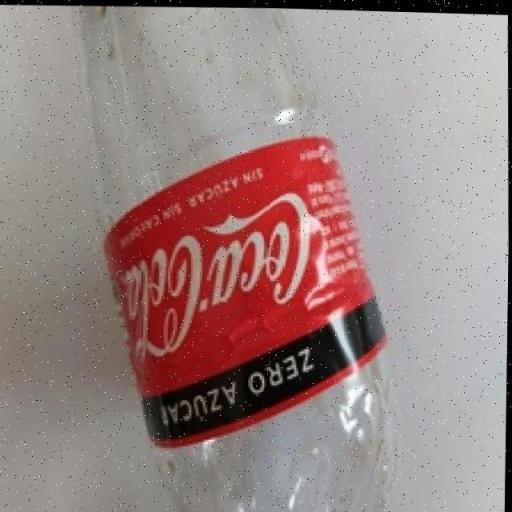plastic: (62, 1, 416, 512)
